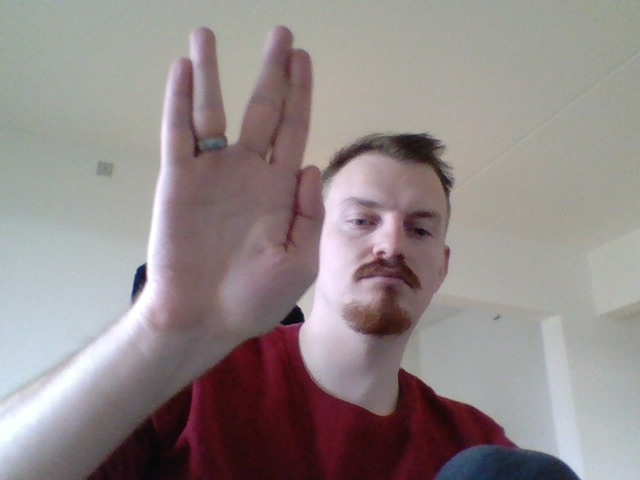LiveLong: (146, 23, 326, 335)
